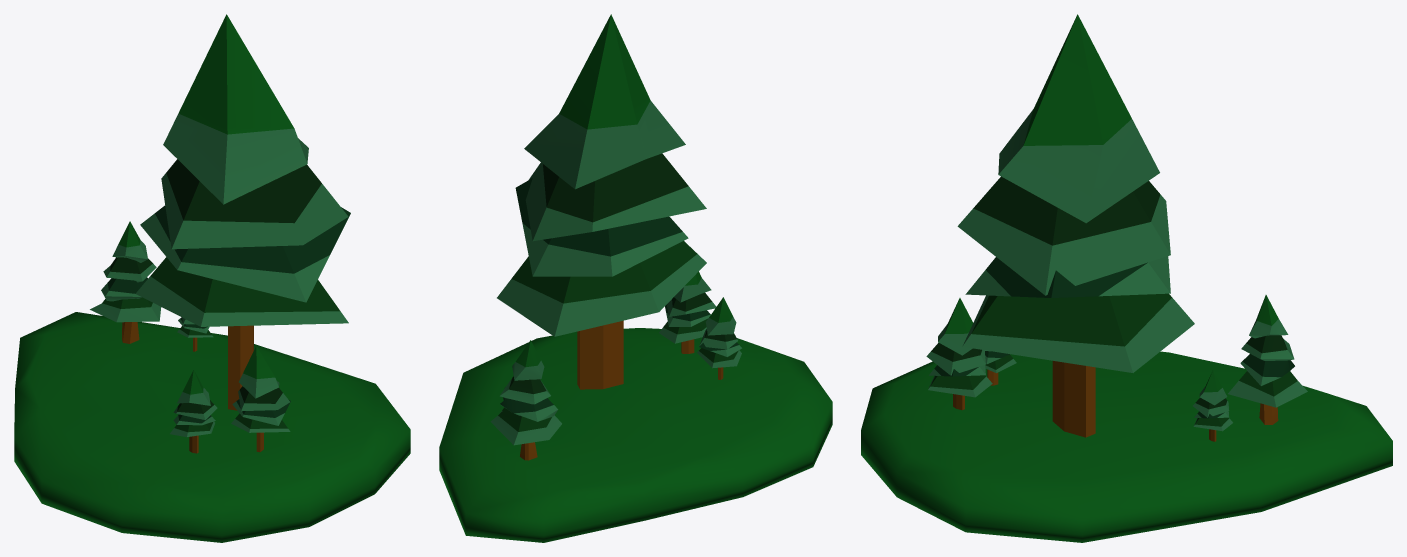
Rendered from tree.obj.
The picture shows the model from 3 angles, left to right: view 1: azimuth 30°, elevation 25°; view 2: azimuth 150°, elevation 25°; view 3: azimuth 270°, elevation 25°; orthographic projection. The views are drawn at different scales.
Parts seen in each view (by area): view 1: tree; view 2: tree; view 3: tree.
Boxes of the visible parts, bbox=[...] form: tree: bbox=[14, 14, 410, 542]; tree: bbox=[439, 14, 832, 542]; tree: bbox=[861, 14, 1392, 542].
Size of the model in its own units: 3.13 by 3.74 by 3.96.
